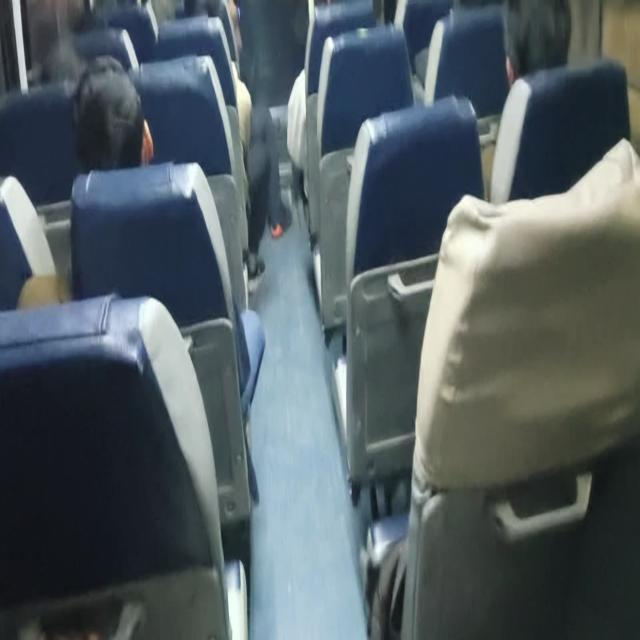person: (70, 54, 266, 502), (221, 0, 292, 286), (71, 54, 154, 171), (502, 0, 572, 88)
